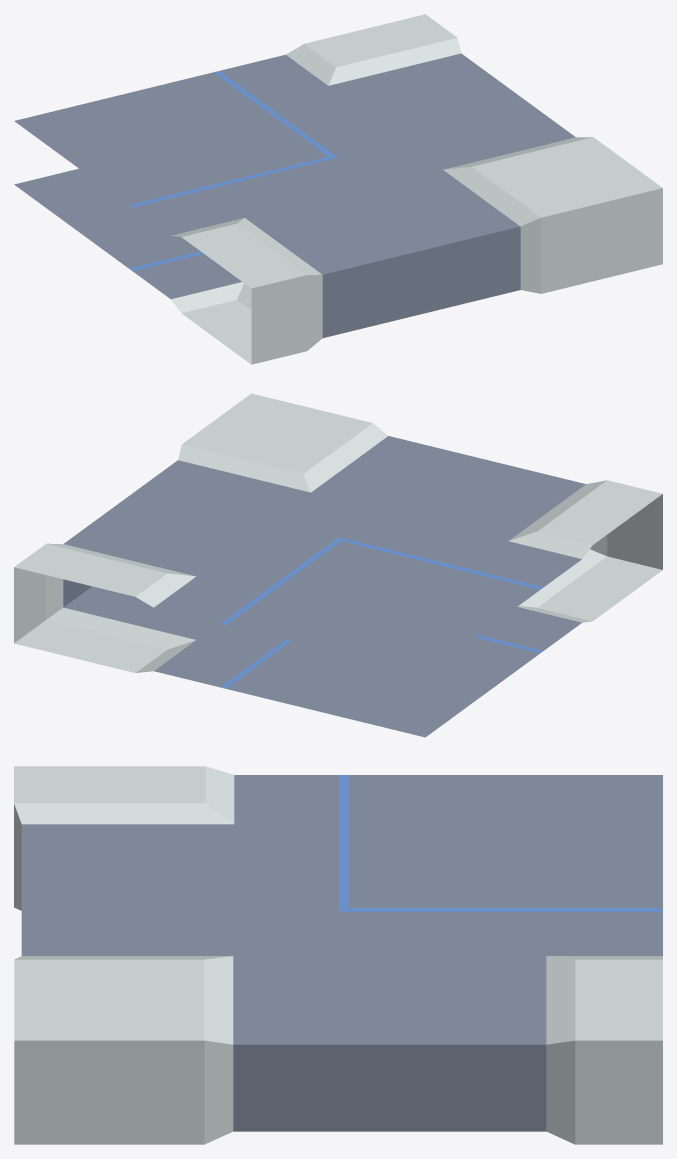
File: PlatformCorner.fbx
3 views of the same model, one above another, from view 1: azimuth 30°, elevation 25°; view 2: azimuth 150°, elevation 25°; view 3: azimuth 270°, elevation 25° (orthographic). The views are drawn at different scales.
Visible parts, largest first — view 1: PlataformCorner; view 2: PlataformCorner; view 3: PlataformCorner.
Boxes of the visible parts, left/top/right/bottom form: PlataformCorner: left=14, top=14, right=662, bottom=364; PlataformCorner: left=14, top=393, right=662, bottom=737; PlataformCorner: left=14, top=766, right=662, bottom=1144.
Size of the model in its own units: 120 by 21.3 by 120.
1 material, 1 textured.
